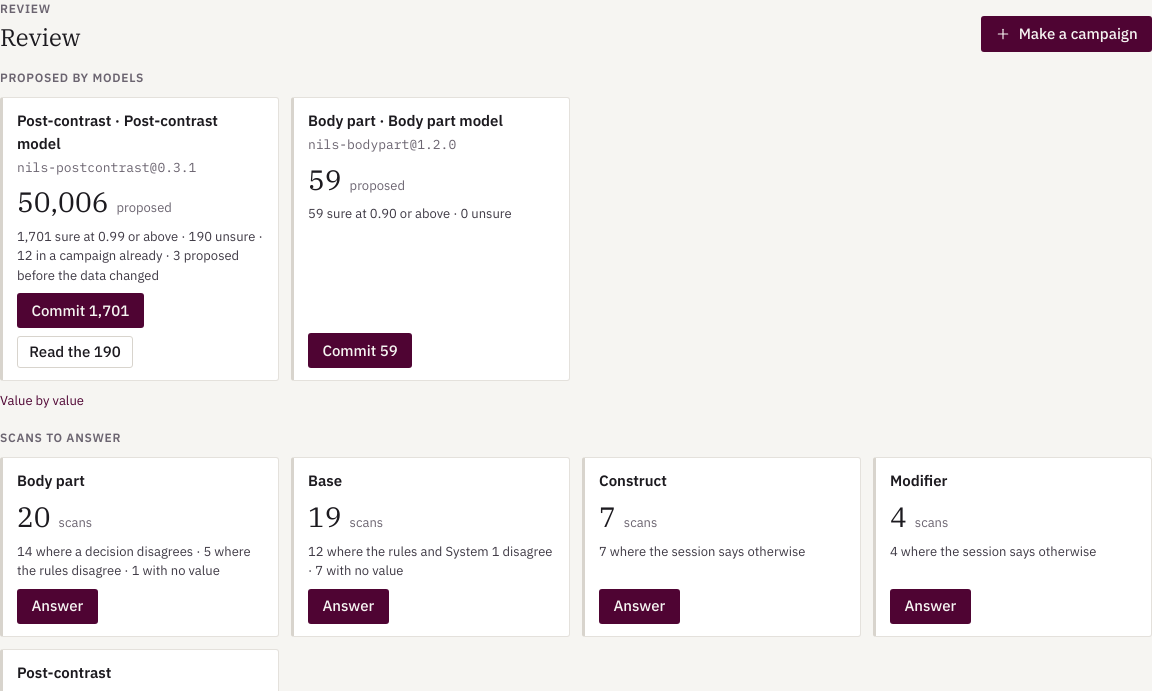
Test: a reviewer's page › commits a model's sure answers from its card through the confirm, says what it did, and reads the page again
The image size is (1152, 691).
Click the button "Commit 1,701".
click(80, 311)  # box [17,293,144,328]
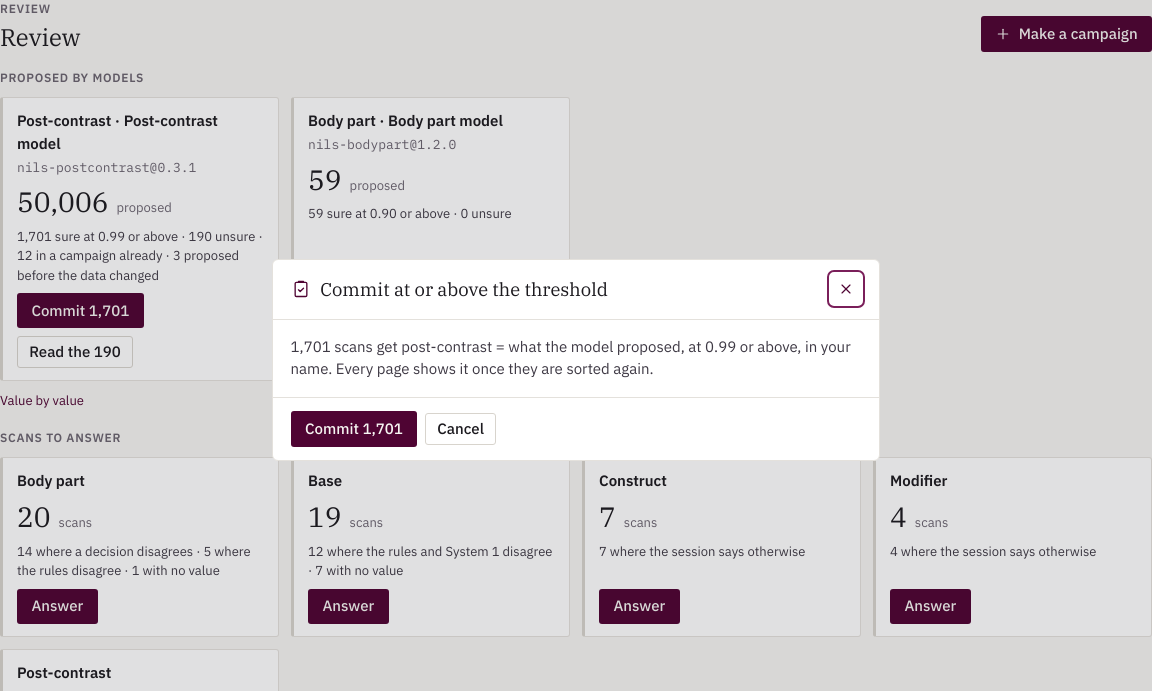
Check: the heading "Commit at or above the threshold" is shown, box [320,277,608,301]
Click the button "Commit 1,701".
click(354, 429)  # box [291,411,417,447]
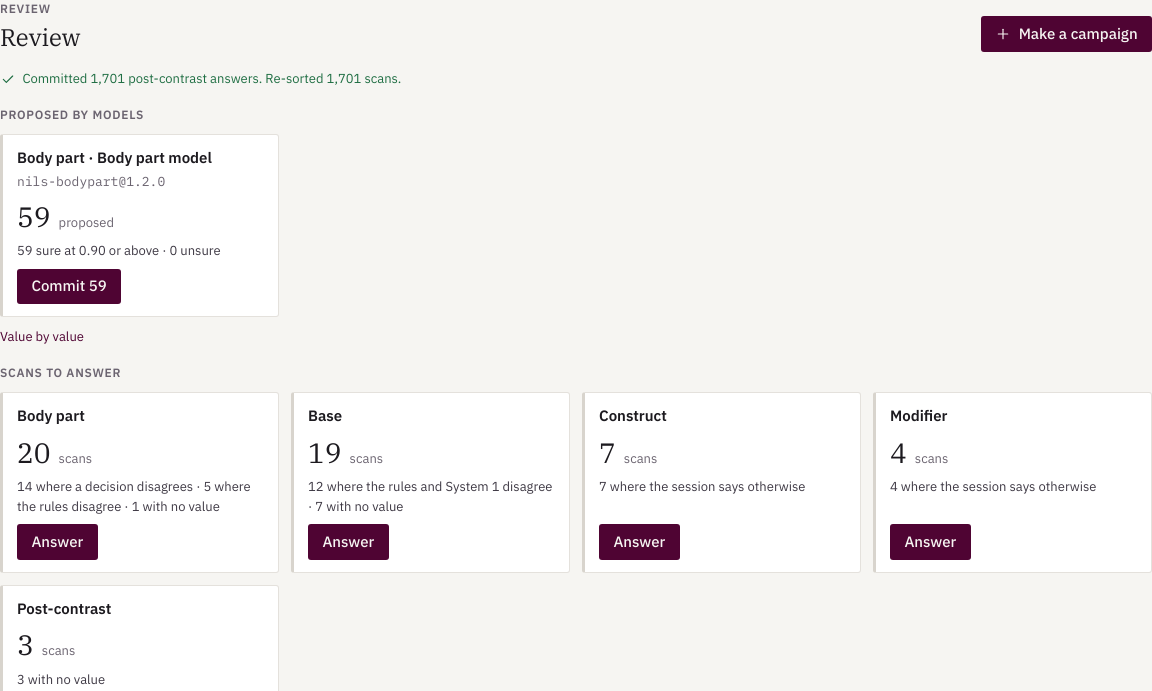
Check: the element with class "said" reads "Committed 1,701 post-contrast answers. Re-sorted 1,701 scans.", box [22,70,401,87]
